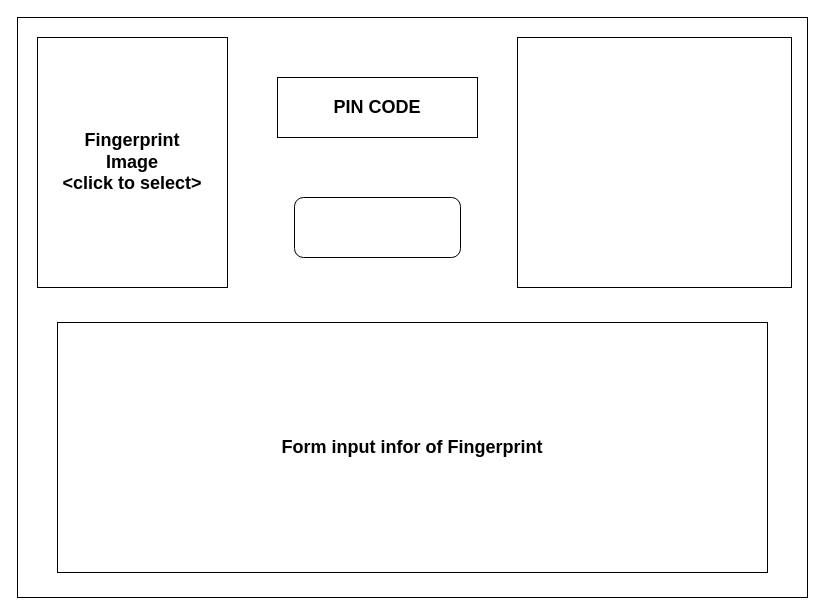
Some shapes in this 825 by 615 pixel diagram are drawn without their labels. Each missing label, with the box of its shape:
Encrypt Button: (294, 196, 460, 258)
Logs of Cryptor Systerm: (516, 36, 792, 288)
